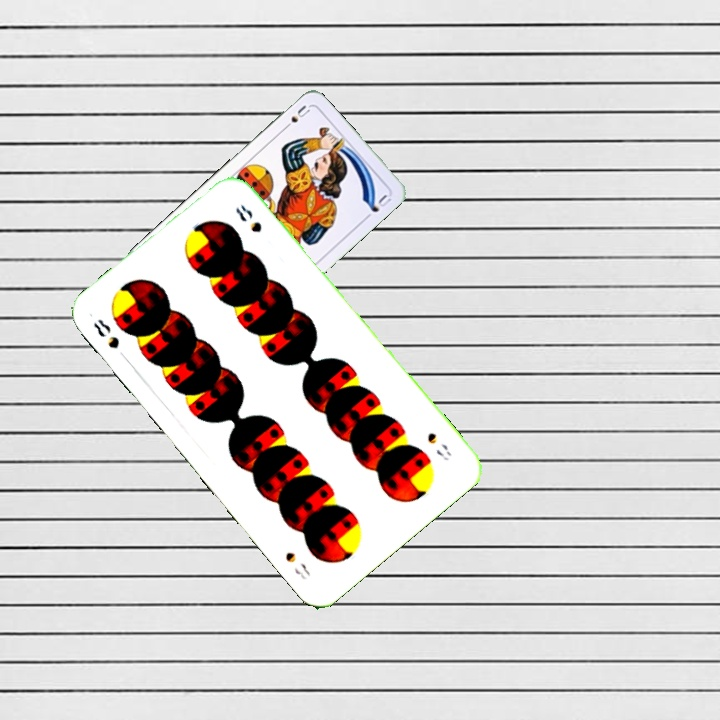S8: (89, 314, 123, 352), (423, 428, 454, 464)
SU: (278, 101, 313, 133)
